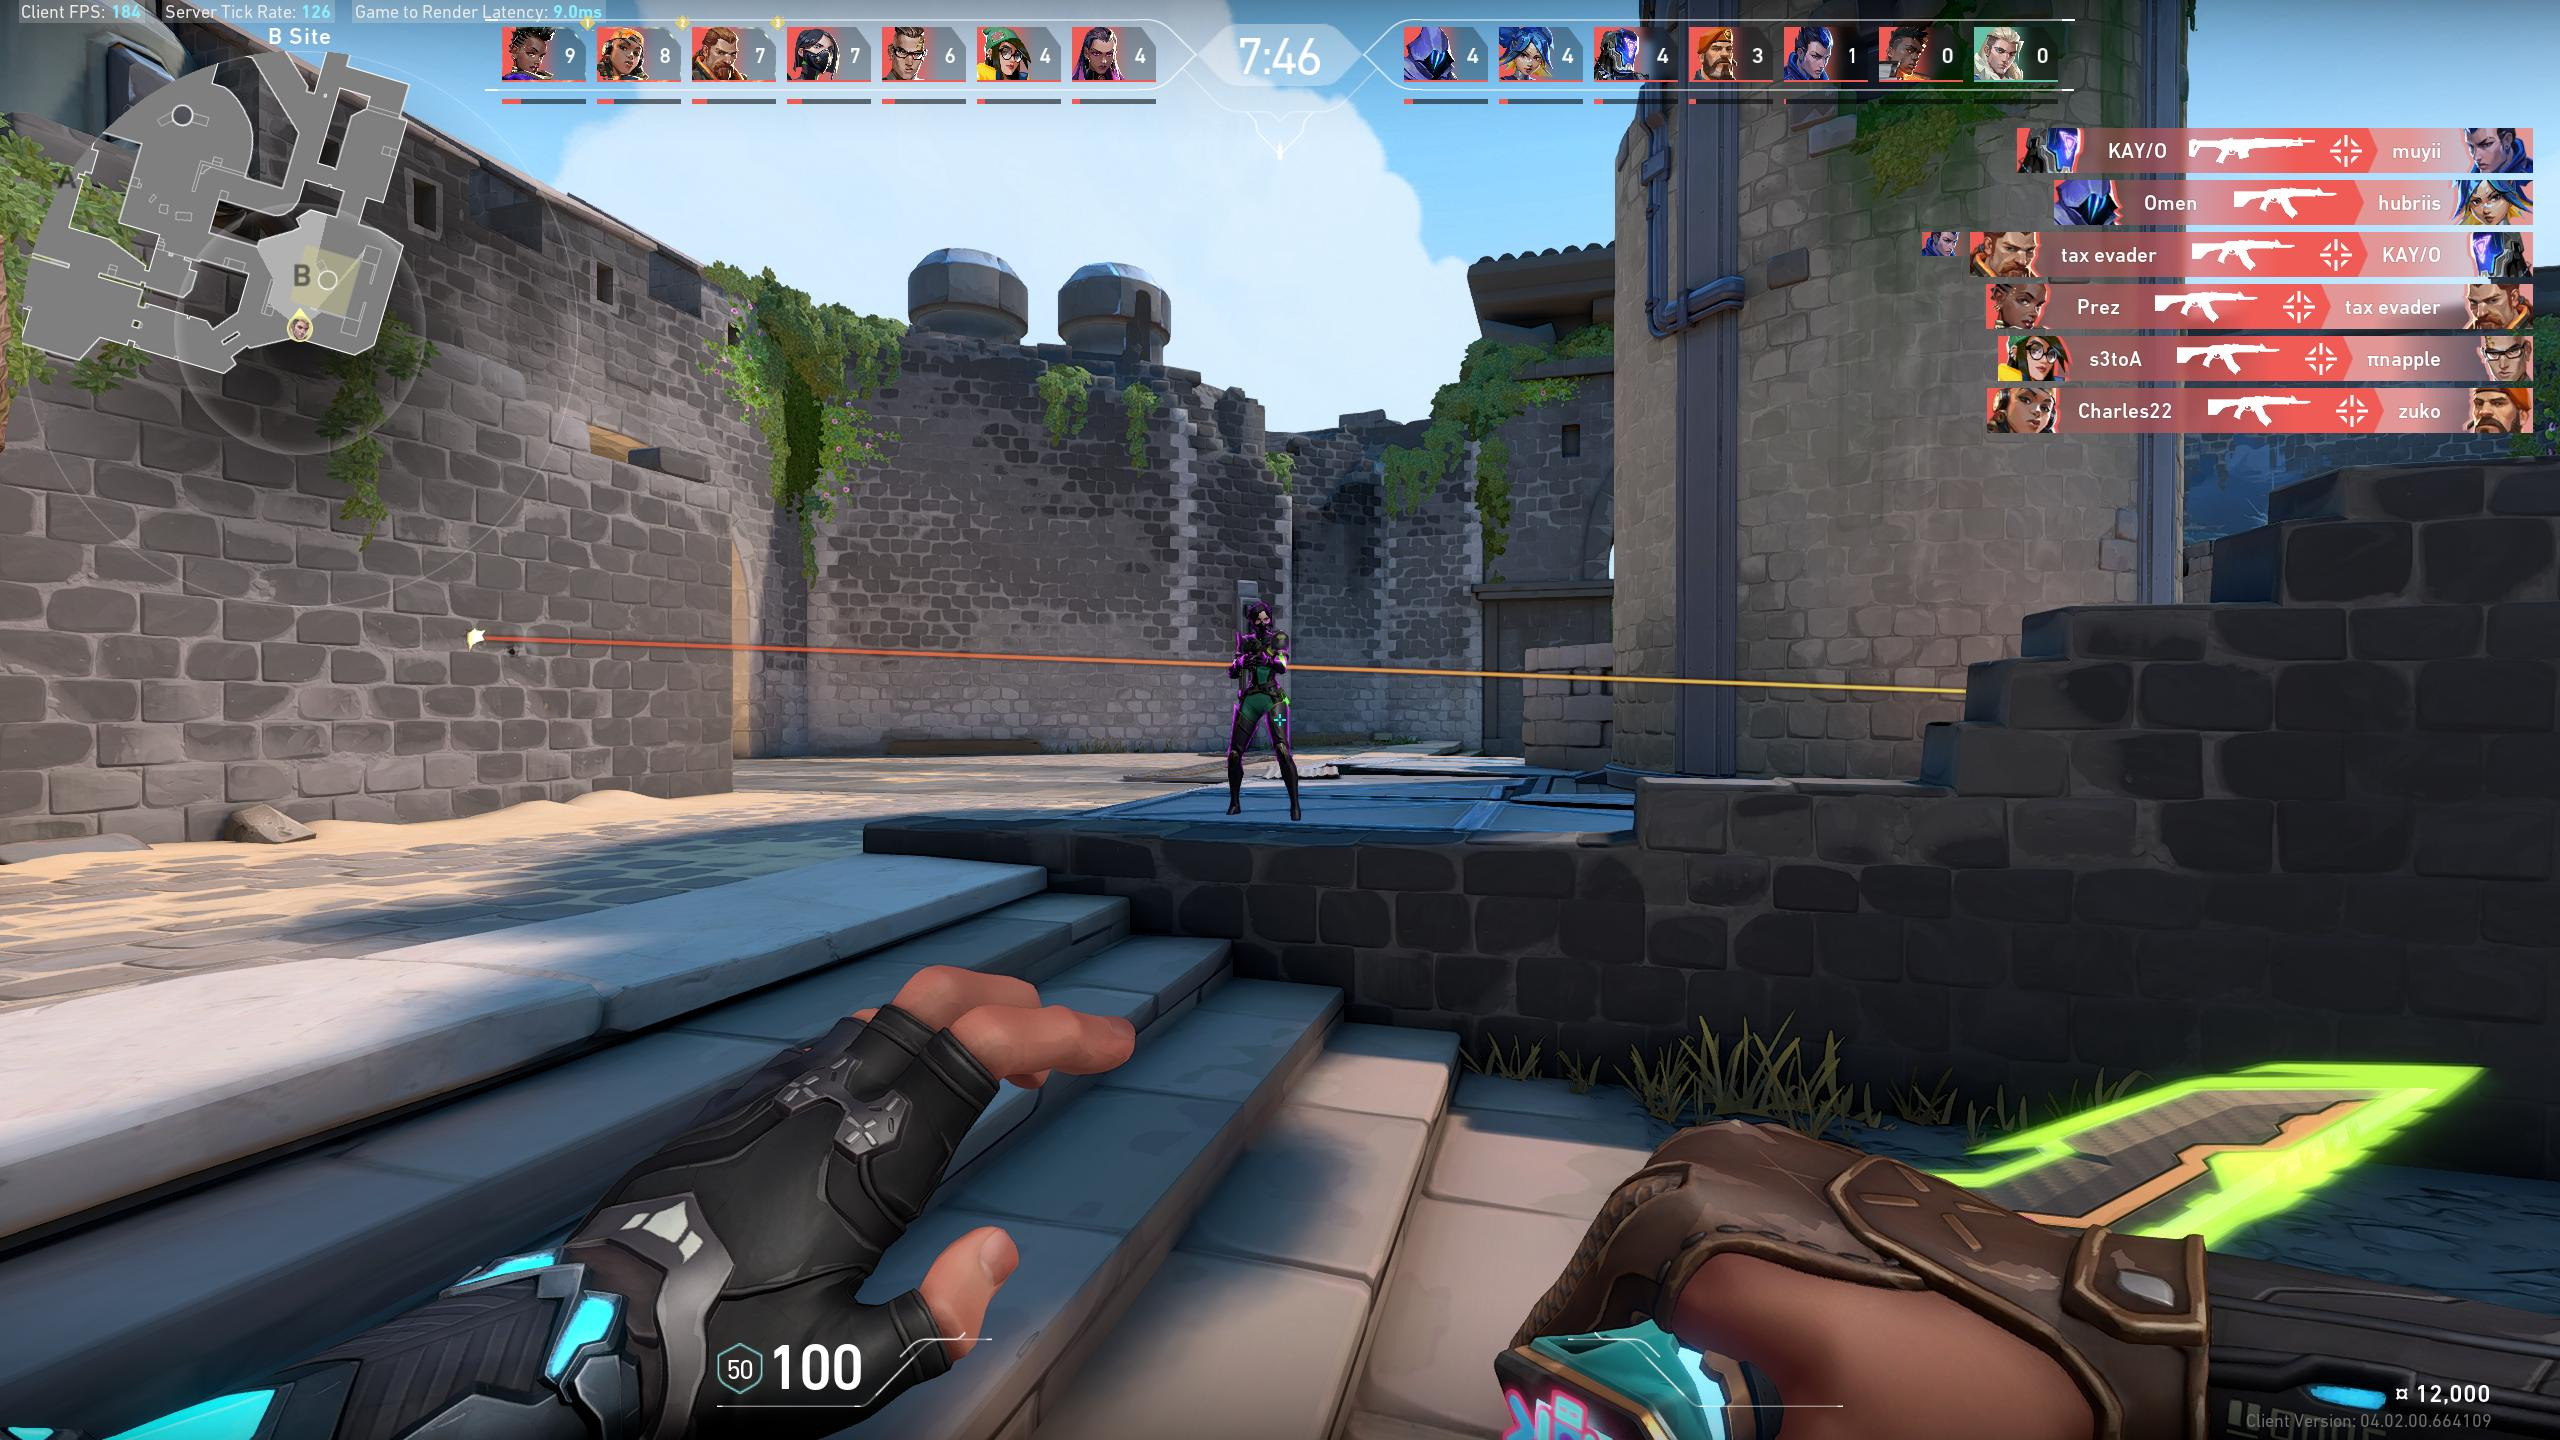enemyBody: (1254, 638, 1269, 693)
enemyHead: (1255, 612, 1269, 631)
